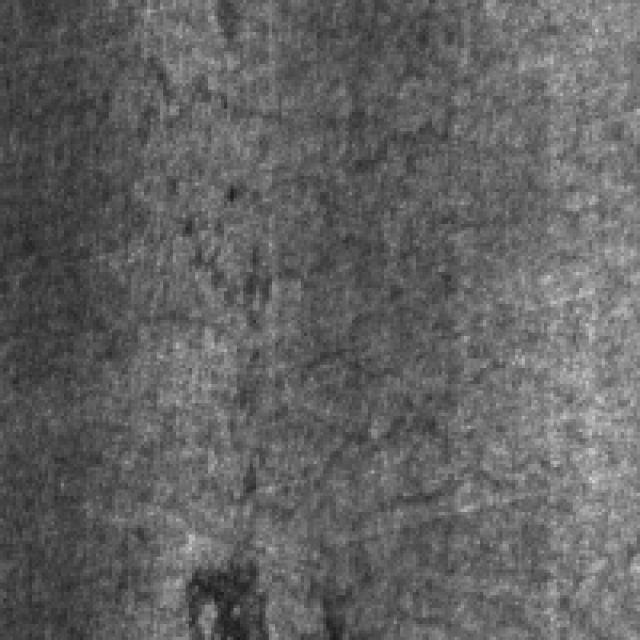crazing: (218, 214, 470, 522), (83, 38, 474, 185)
